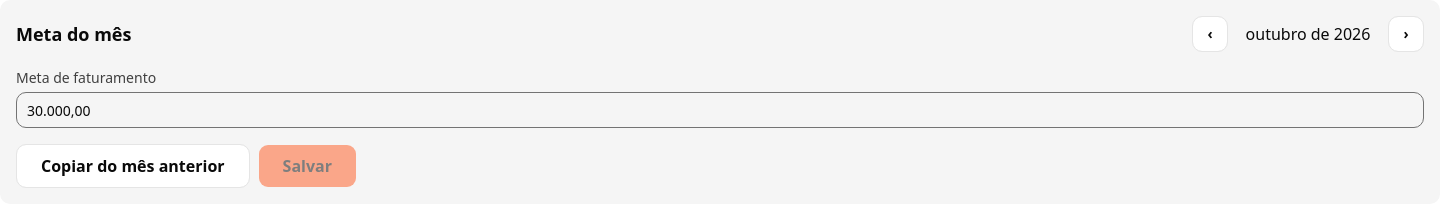
Test case: SecaoMeta › vai e volta na virada de ano (dezembro ‹ janeiro)
Click the button named "próximo mês". click: (1406, 34)
box: [1388,16,1424,52]
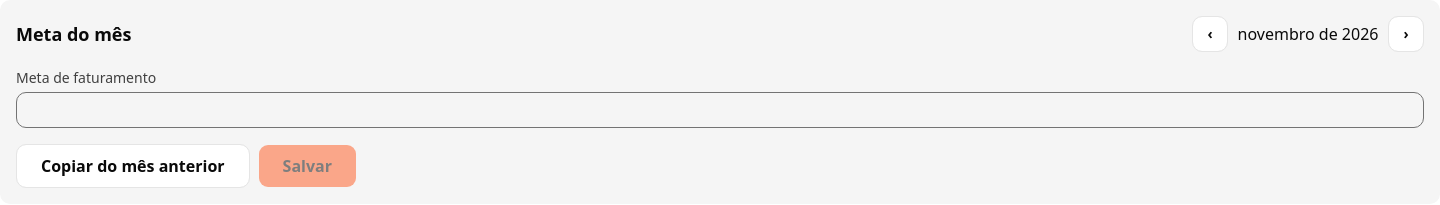
Click the button named "próximo mês". click: (1406, 34)
box: [1388,16,1424,52]
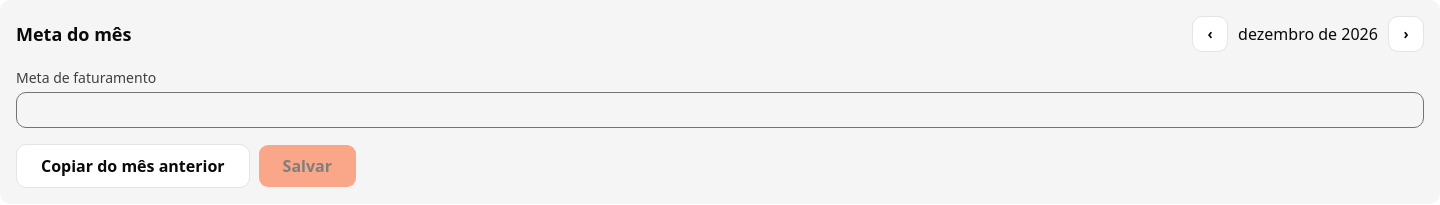
Click the button named "próximo mês". click: (1406, 34)
box: [1388,16,1424,52]
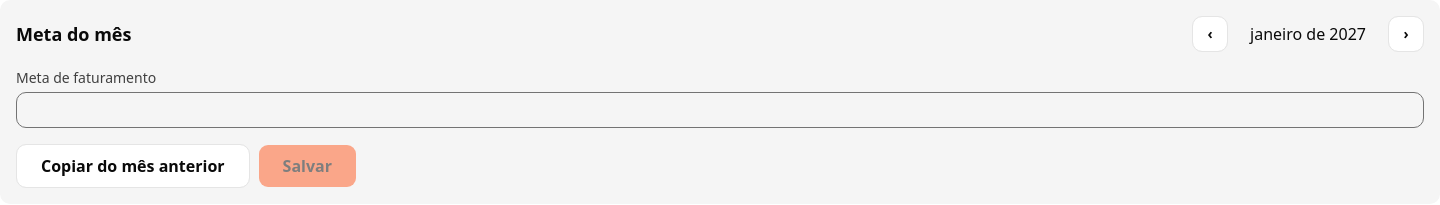
expect the text "janeiro de 2027" is shown: met, box [1250,23,1366,45]
Click the button named "mês anterior". click: (1210, 34)
box: [1192,16,1228,52]
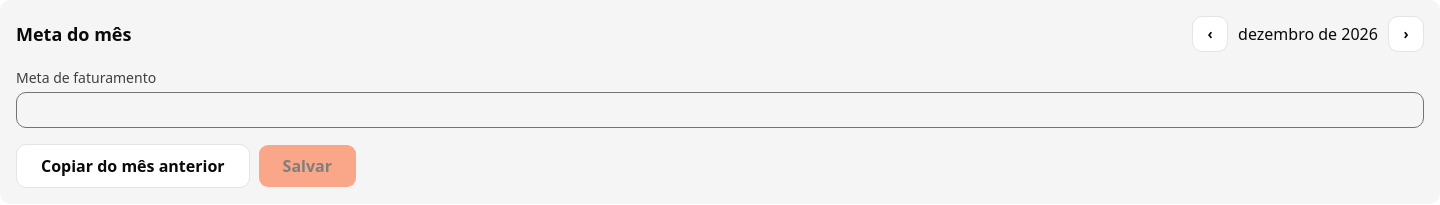
expect the text "dezembro de 2026" is shown: met, box [1236,22,1380,46]
